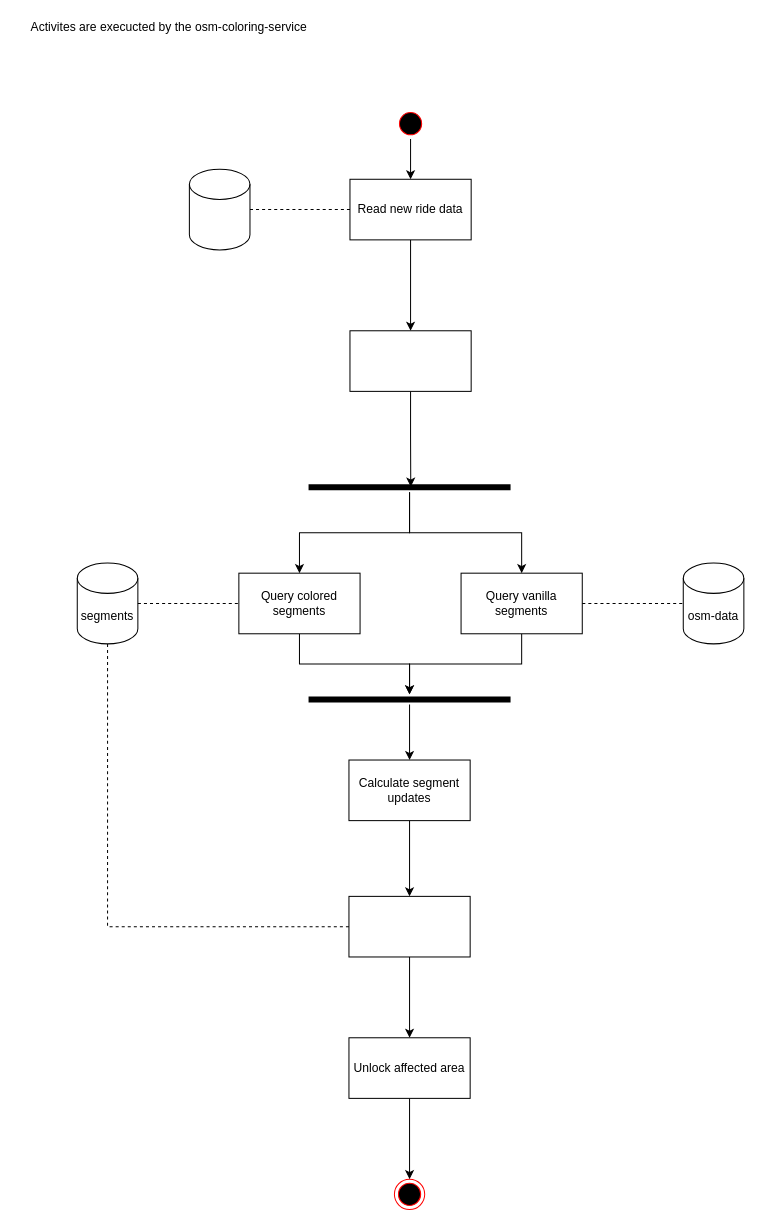
Some shapes in this 762 by 1227 pixel diagram are drawn without their labels. Each missing label, with the centre of its shape:
"Lock affected area" goes at point (410, 360).
"rides" goes at point (219, 209).
"Write segments" goes at point (409, 926).
